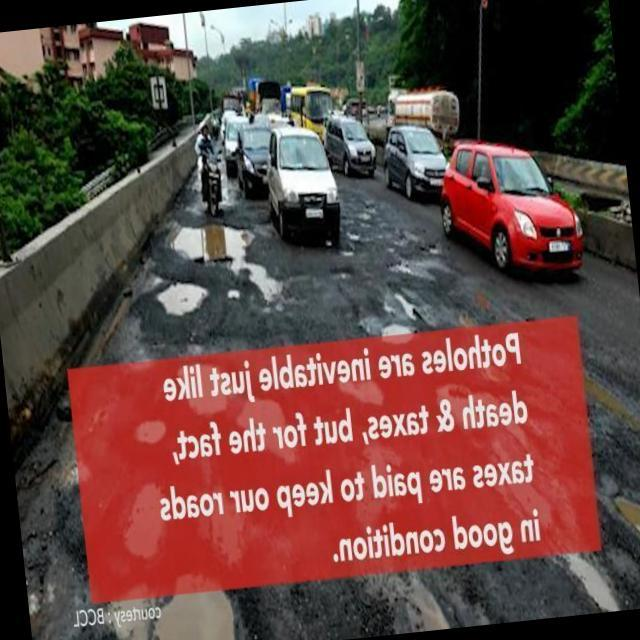Burst: (489, 443, 623, 611), (340, 512, 455, 634), (171, 225, 285, 305), (151, 567, 248, 640), (127, 480, 169, 560), (106, 575, 153, 640), (333, 368, 383, 408), (157, 282, 211, 319), (390, 255, 465, 281), (612, 495, 640, 541), (387, 287, 416, 320)
